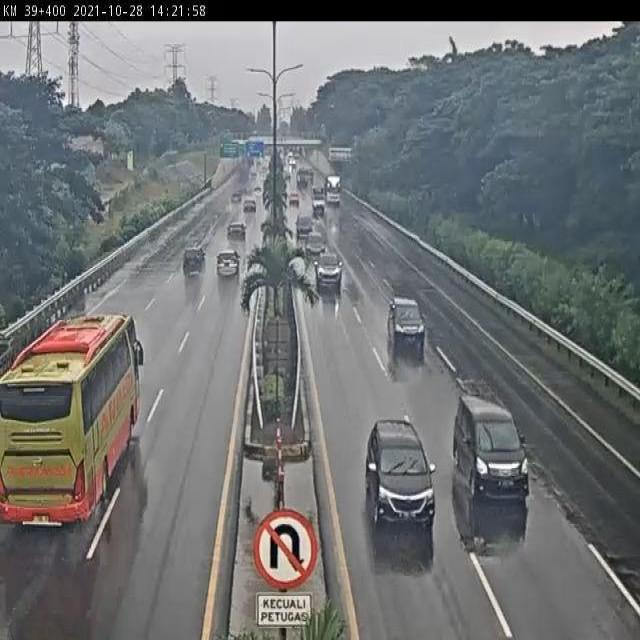big bus: (0, 310, 142, 526)
car: (454, 389, 531, 503), (365, 417, 437, 528), (386, 295, 428, 353), (314, 249, 343, 288), (181, 243, 208, 280), (215, 248, 242, 281), (226, 219, 248, 245), (305, 231, 327, 257), (295, 212, 314, 239)
